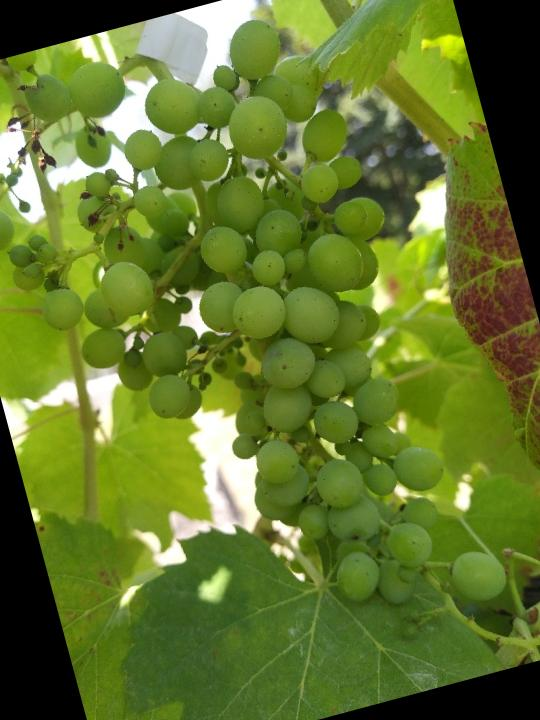grape: (0, 0, 515, 713)
